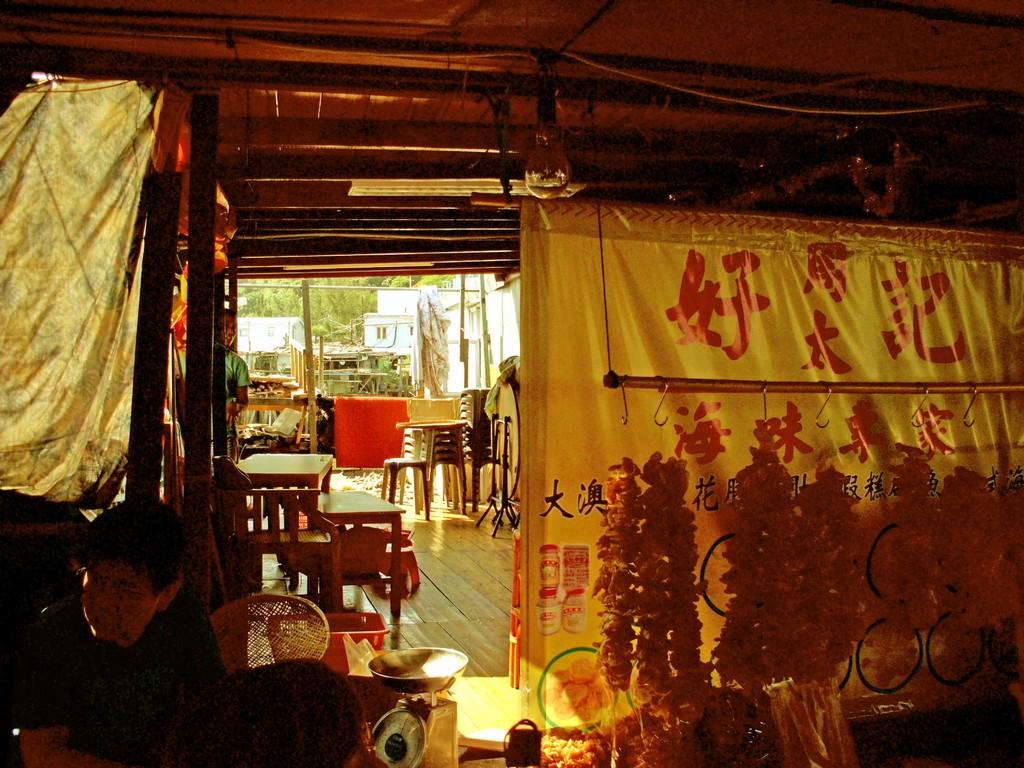Chair: (226, 657, 362, 767), (223, 491, 344, 585), (207, 590, 329, 677)
